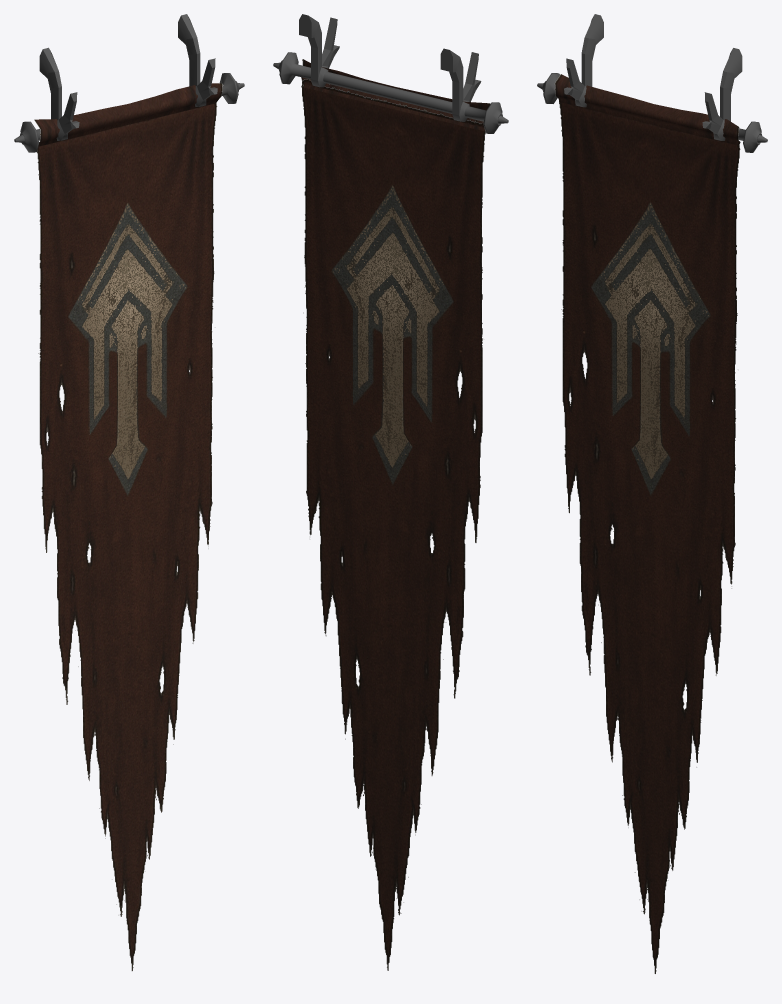
The model's file is Crucible_Banner_A.fbx.
The picture shows the model from 3 angles, left to right: view 1: azimuth 30°, elevation 25°; view 2: azimuth 150°, elevation 25°; view 3: azimuth 330°, elevation 25°; orthographic projection. The views are drawn at different scales.
Parts seen in each view (by area): view 1: Banner_A; view 2: Banner_A; view 3: Banner_A.
Boxes of the visible parts, x1,y1,x2,y2 form: Banner_A: [14, 14, 244, 971]; Banner_A: [273, 14, 508, 970]; Banner_A: [537, 14, 767, 973].
Size of the model in its own units: 281 by 1113 by 68.21.
